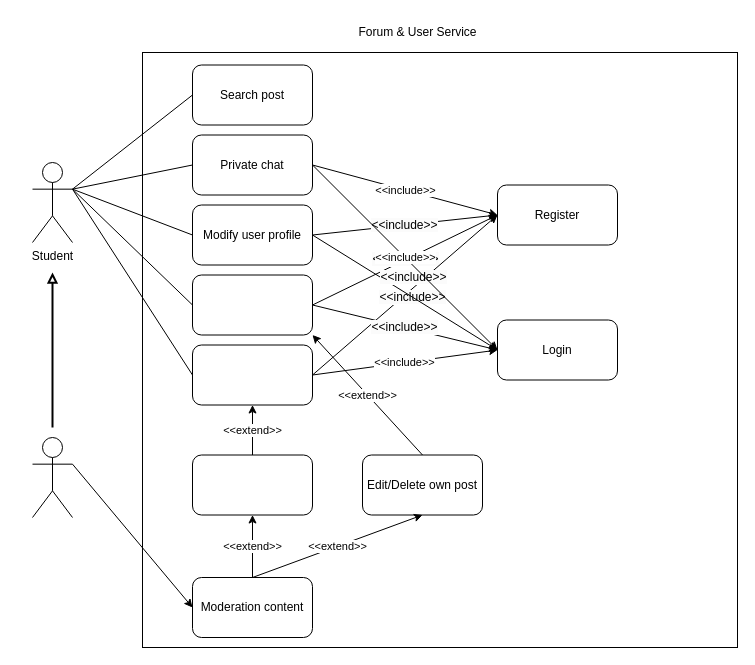
Some shapes in this 755 by 665 pixel diagram are drawn without their labels. Here are the shapes that lost their labels. From the top down, the box of each, then its label:
(192, 274, 312, 335): Add post
(192, 344, 312, 405): Add comment to post
(32, 436, 72, 518): Administrator
(192, 454, 312, 515): Edit/Delete own comment
